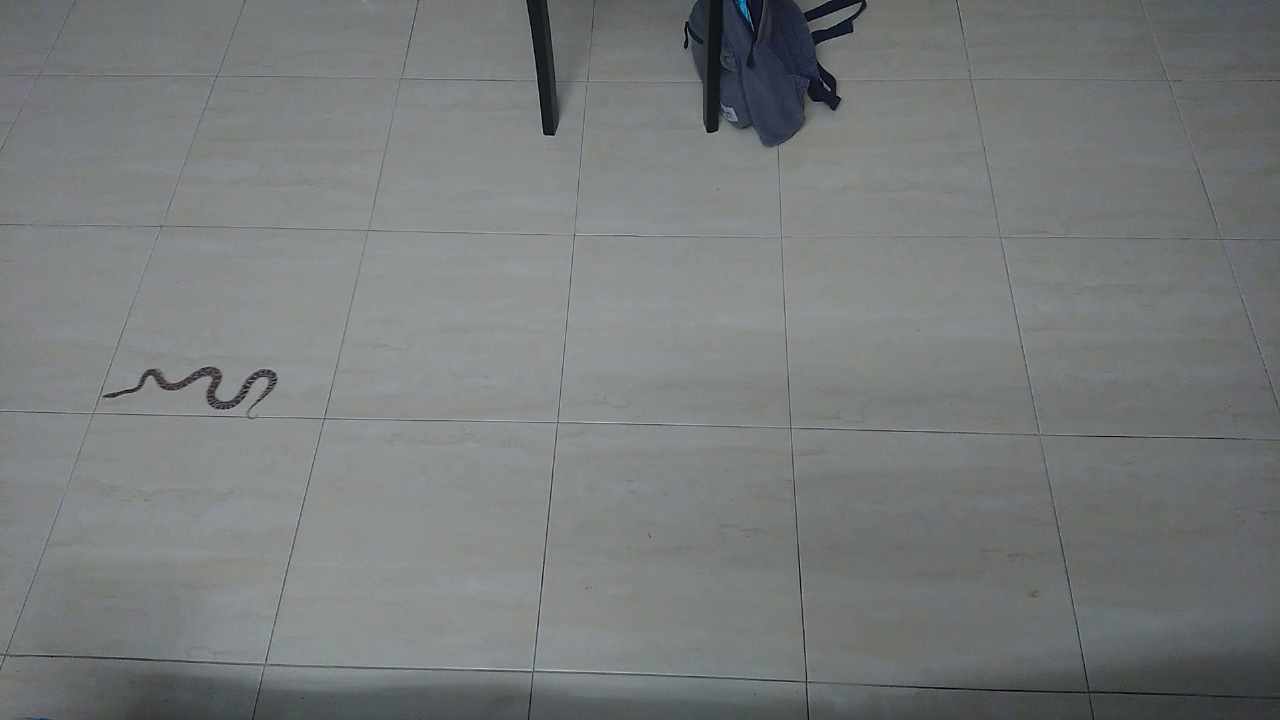snake: (85, 342, 290, 437)
